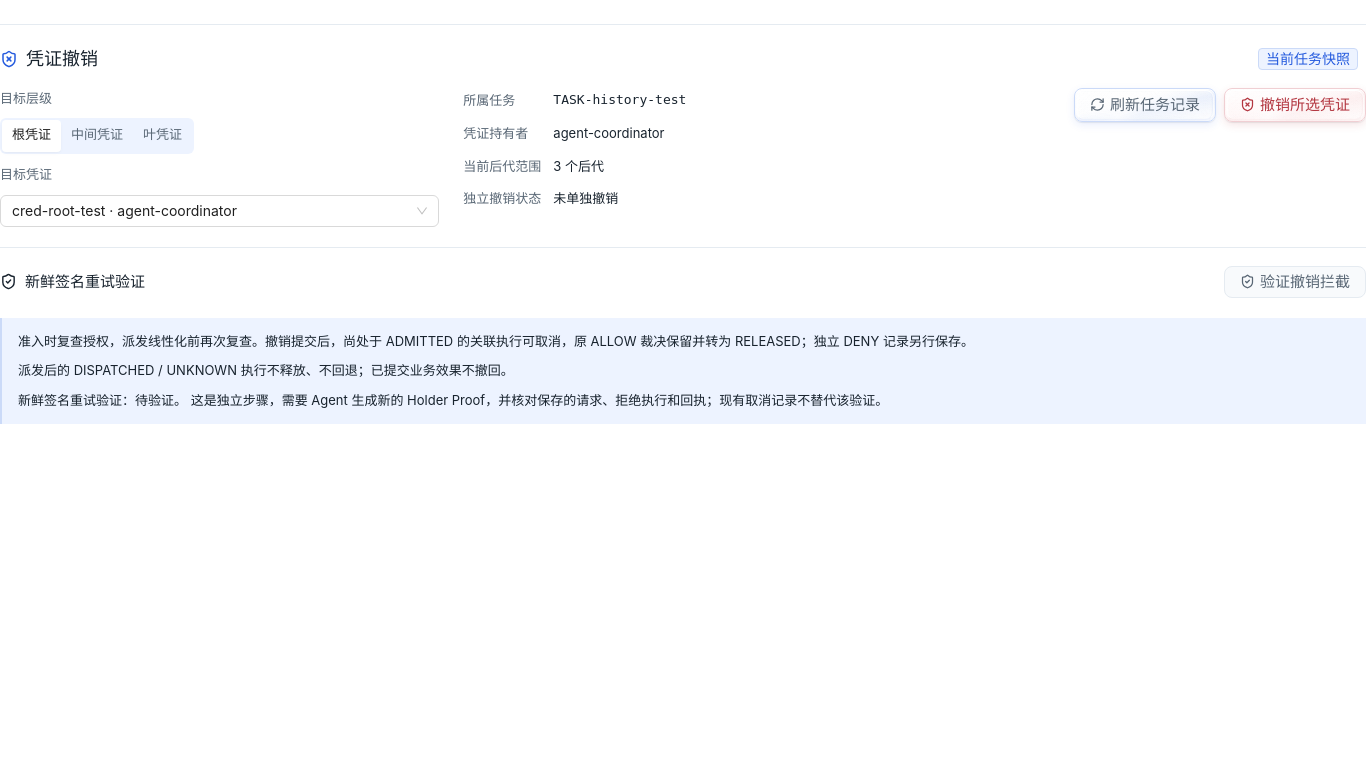
Test: CredentialRevocationPanel › requires explicit confirmation of all descendants and the committed-effect boundary
Step 1. Click the button "撤销所选凭证" → [1295, 105], box [1224,88,1365,122]
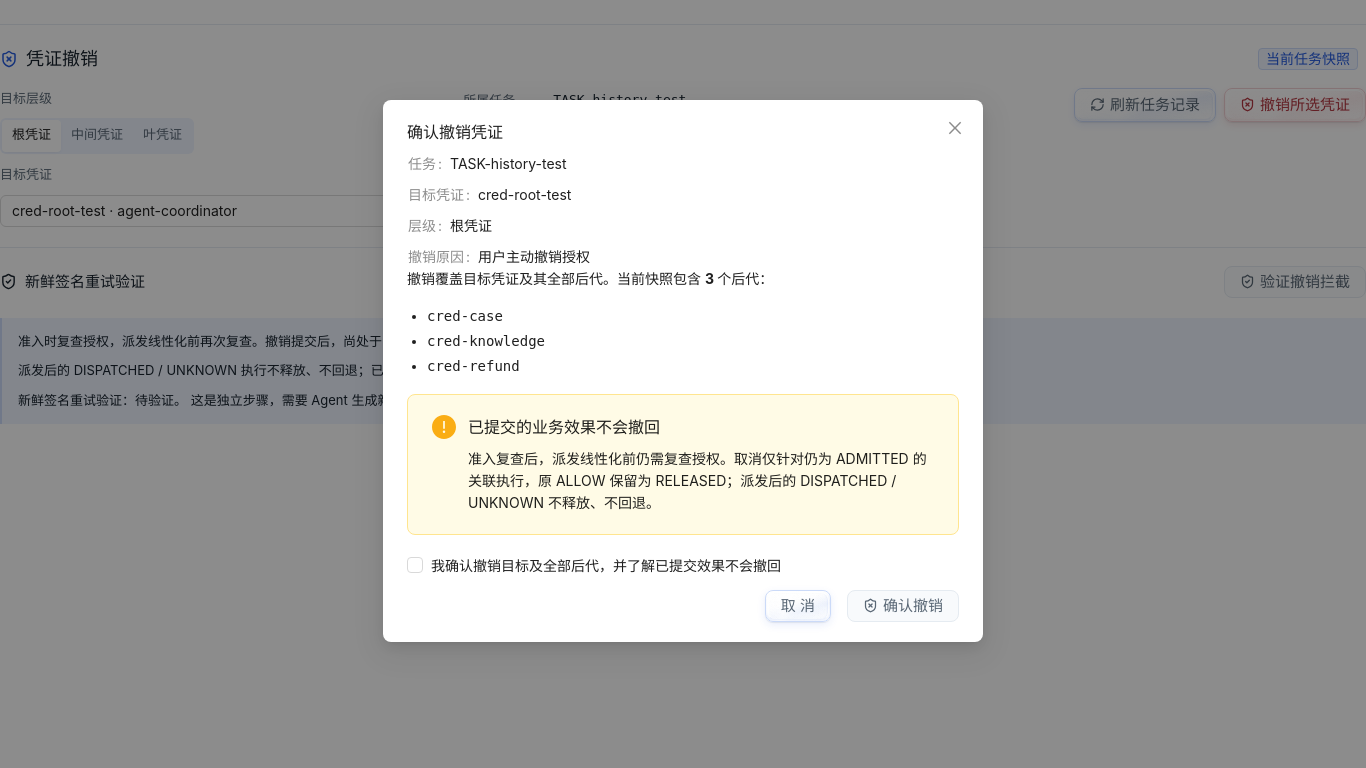
Expected: the text "用户主动撤销授权" is shown, [478,248,590,265]
Expected: the button with test id "revocation-submit" is disabled, [847,590,959,622]
Expected: the checkbox with test id "revocation-confirm-scope" is not checked
Step 2. Click the checkbox → [598, 565], box [407,553,789,578]
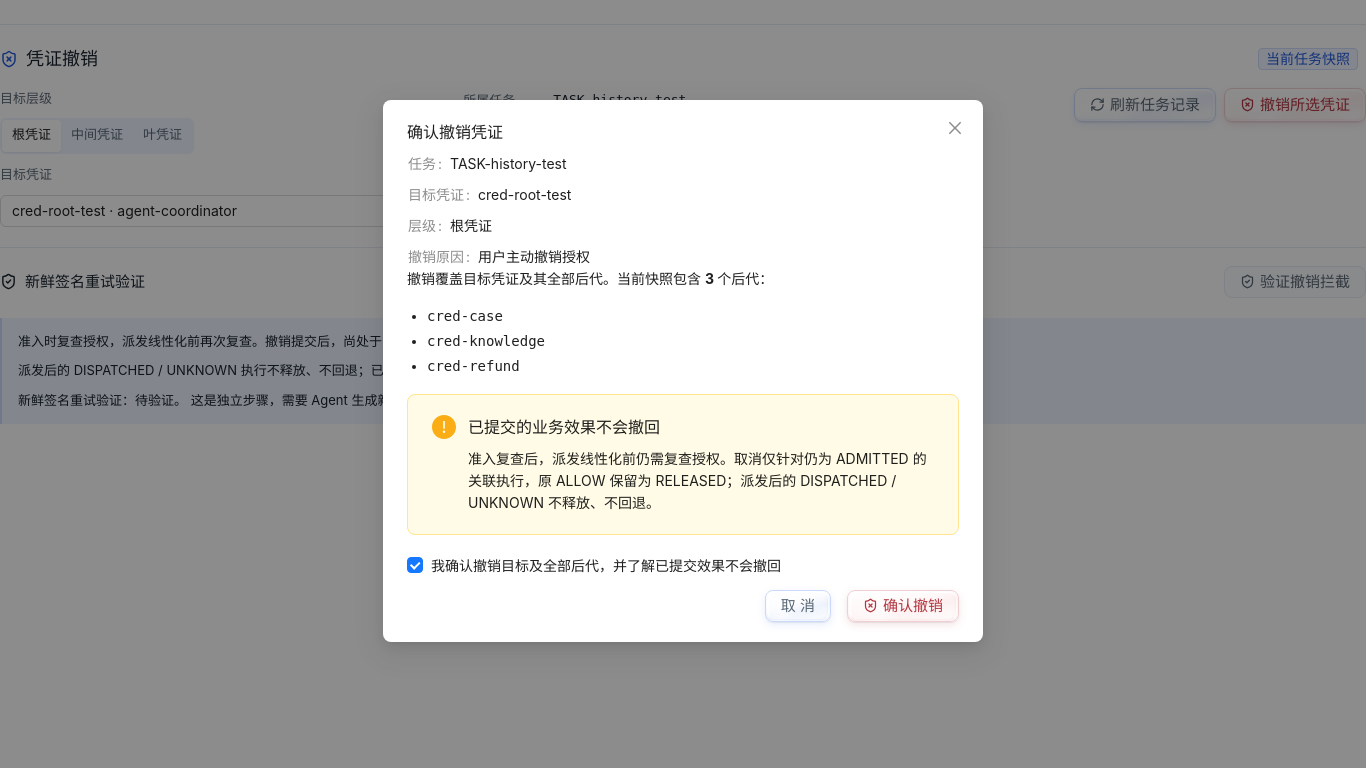
Step 3. Click the button "确认撤销" → [903, 606], box [847,590,959,622]
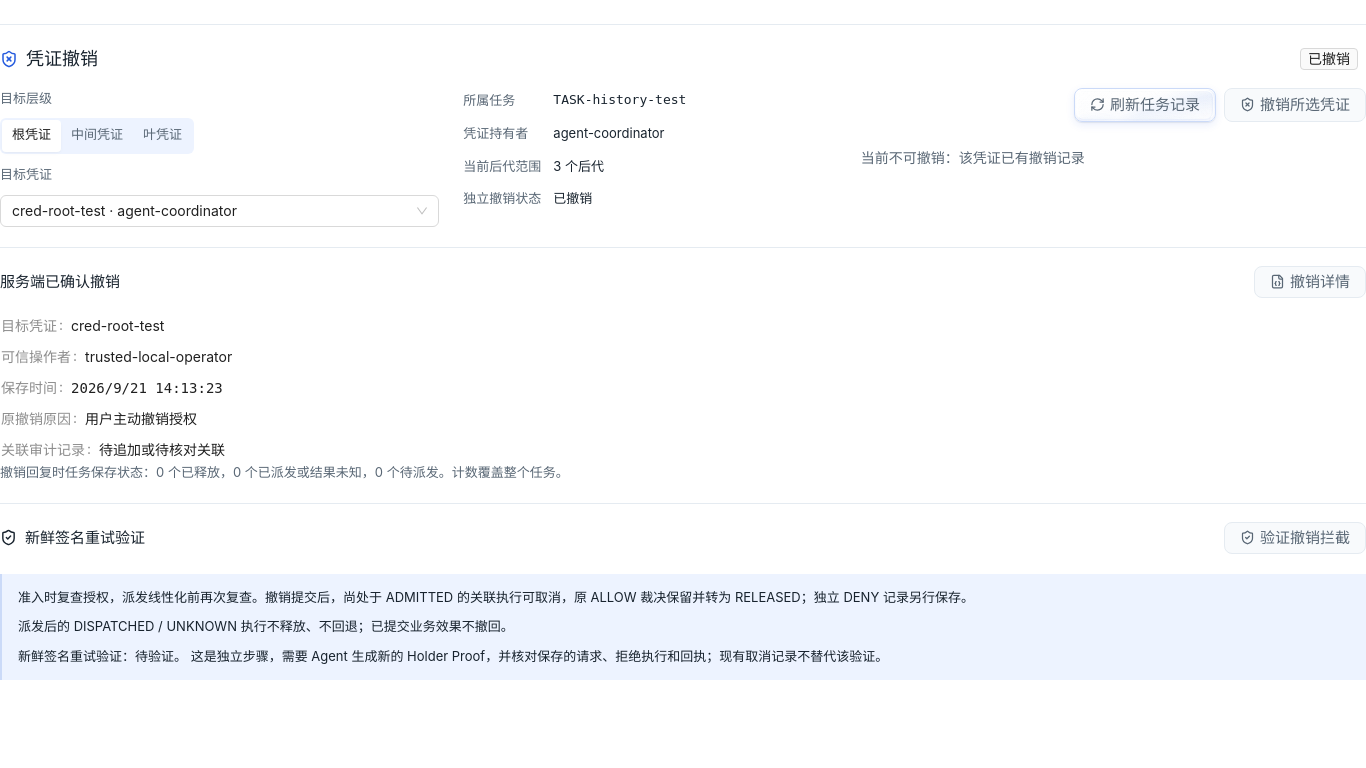
Expected: the text "新鲜签名重试验证：待验证。" is shown, [18,648,187,664]
Expected: the heading "服务端已确认撤销" is shown, [0,271,120,293]
